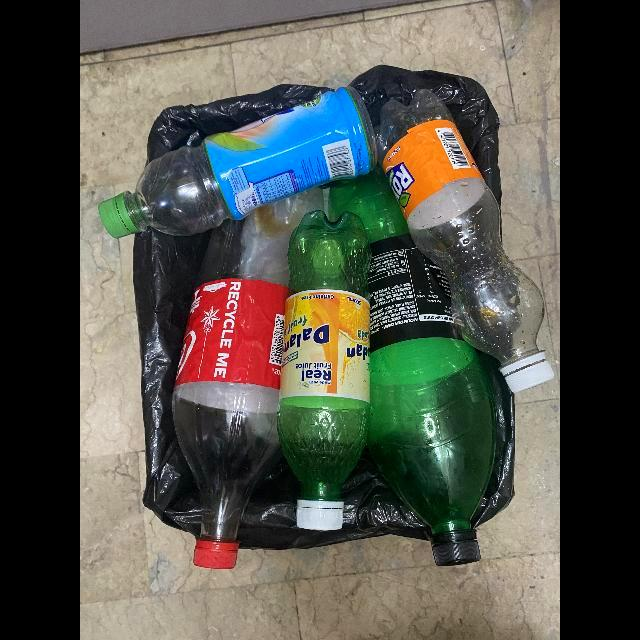plastic_bottle: (328, 167, 497, 567), (172, 186, 319, 572), (378, 90, 554, 394), (98, 87, 376, 239), (277, 210, 370, 533)
